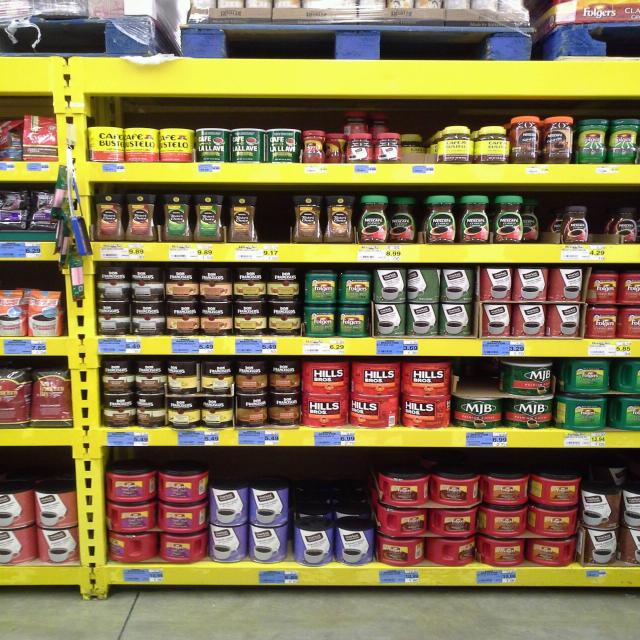void: (529, 192, 559, 264), (259, 191, 287, 261), (592, 189, 611, 263)
